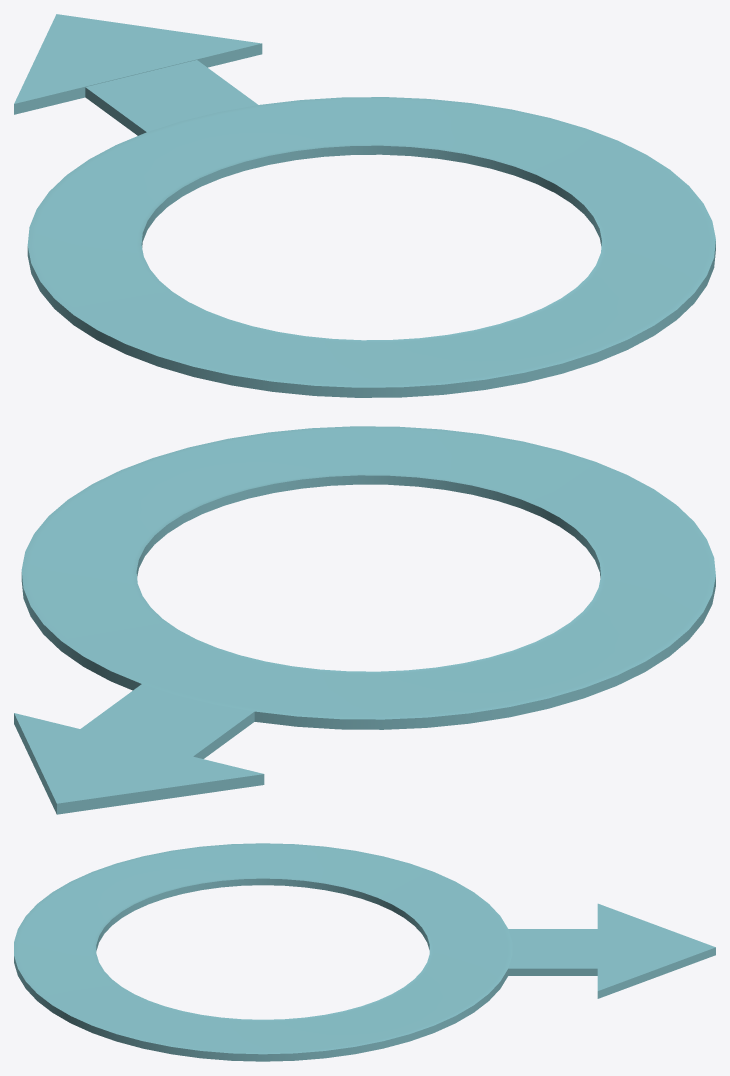
The model's file is Indicator_Move.fbx.
The picture shows the model from 3 angles, top to bottom: view 1: azimuth 30°, elevation 25°; view 2: azimuth 150°, elevation 25°; view 3: azimuth 270°, elevation 25°; orthographic projection. The views are drawn at different scales.
Visible parts, largest first — view 1: polySurface10; view 2: polySurface10; view 3: polySurface10.
Boxes of the visible parts, x1,y1,x2,y2 form: polySurface10: (14, 14, 715, 397); polySurface10: (14, 426, 715, 814); polySurface10: (14, 843, 715, 1061).
Bounding box in the file's own units: 10.62 × 0.1882 × 14.93.
